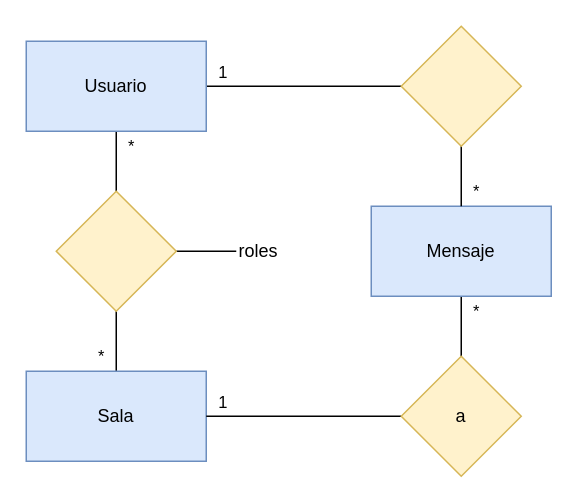
Some shapes in this 578 by 503 pixel diagram are drawn without their labels. The box of each missing label's shape, as (x1, y1, x2, y2) in pixels:
envía: (400, 25, 521, 146)
participa: (55, 190, 176, 311)
